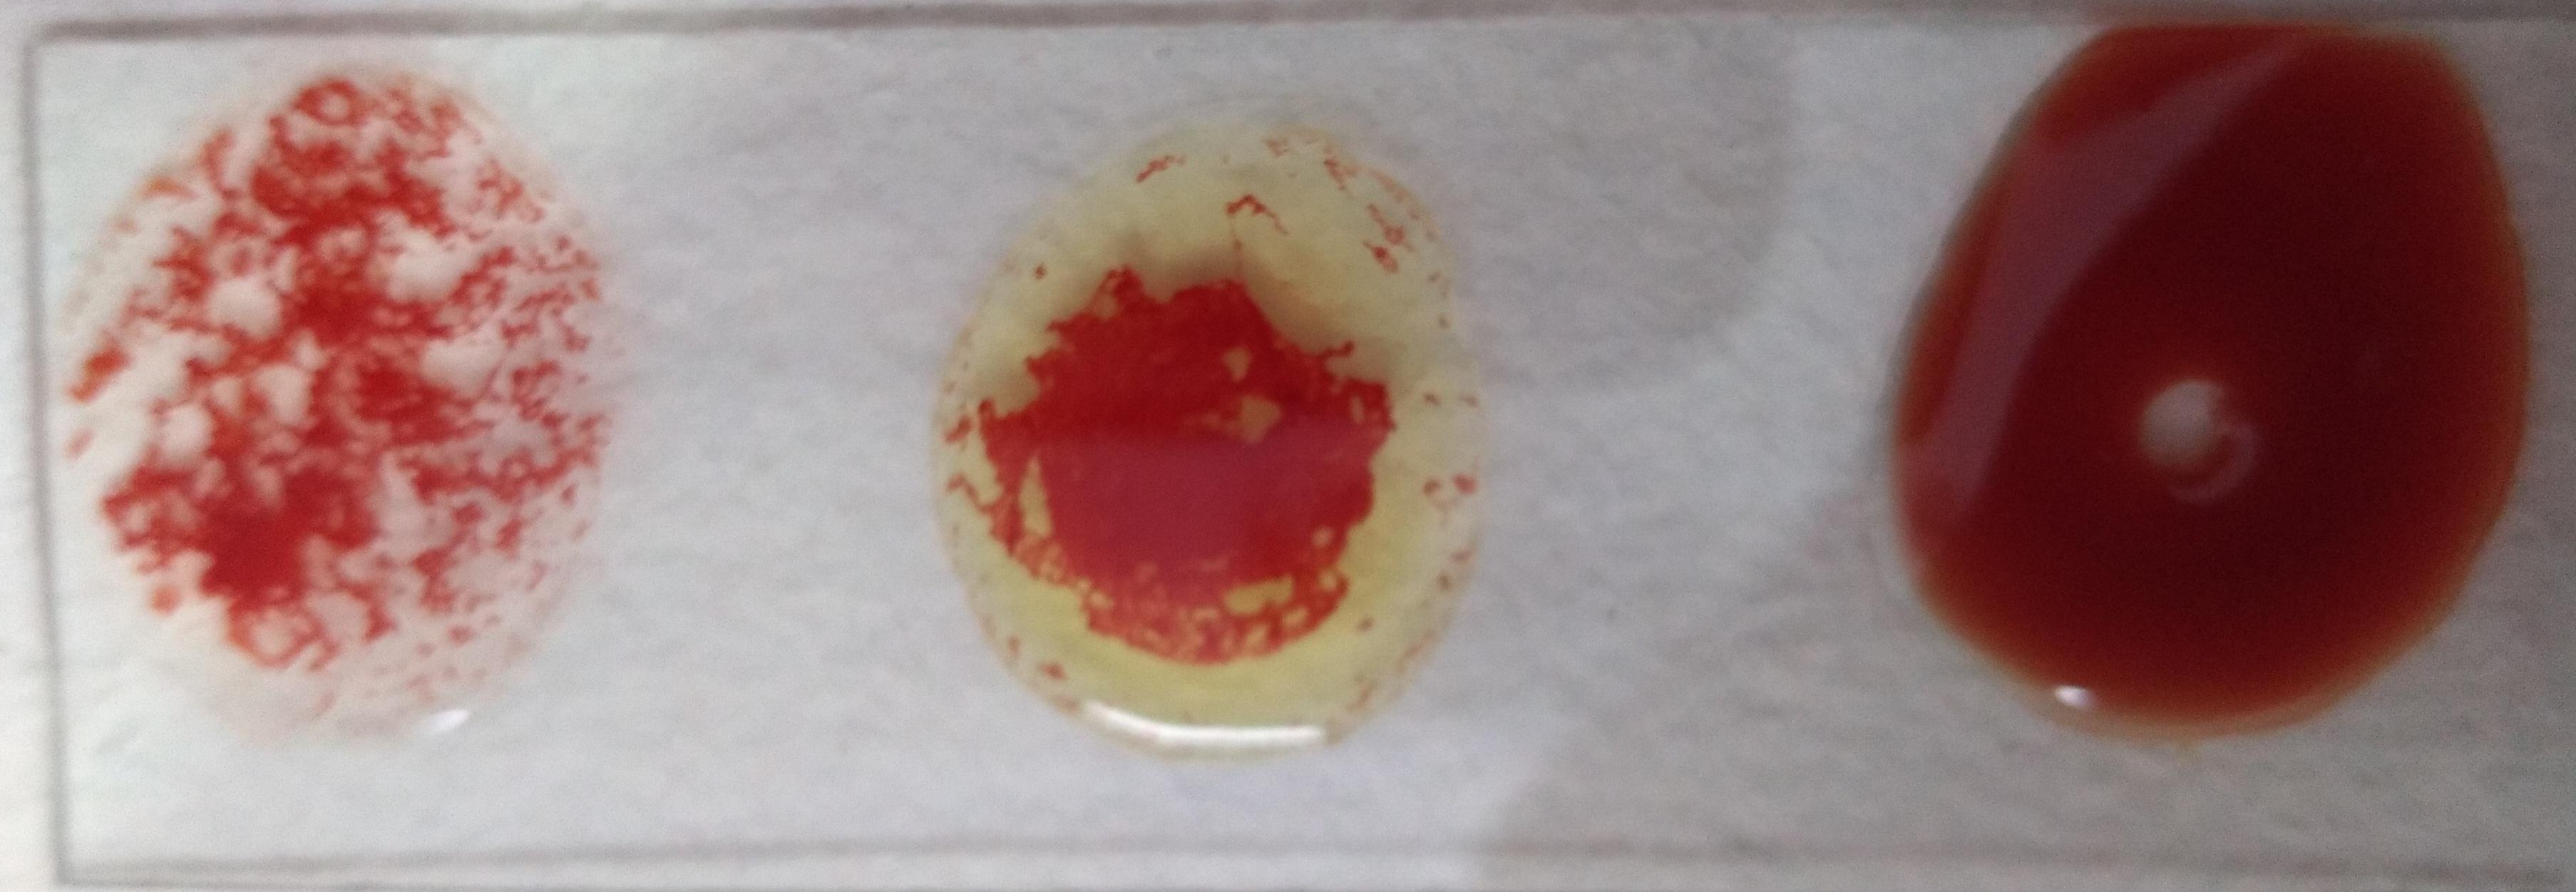B: (948, 100, 1488, 759)
D: (57, 62, 629, 716)
